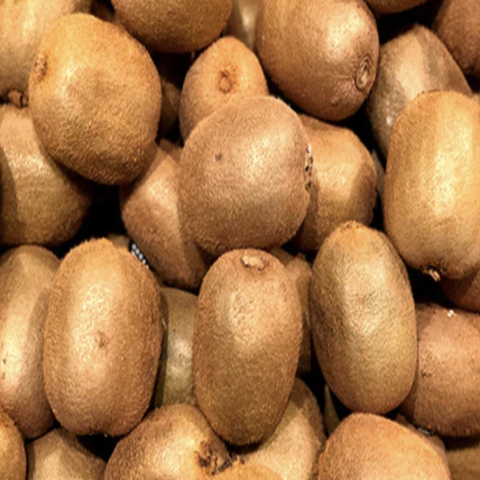kiwi: (174, 89, 342, 262), (293, 212, 439, 408), (39, 233, 170, 451), (17, 9, 168, 198), (189, 239, 308, 456), (372, 81, 480, 272)
